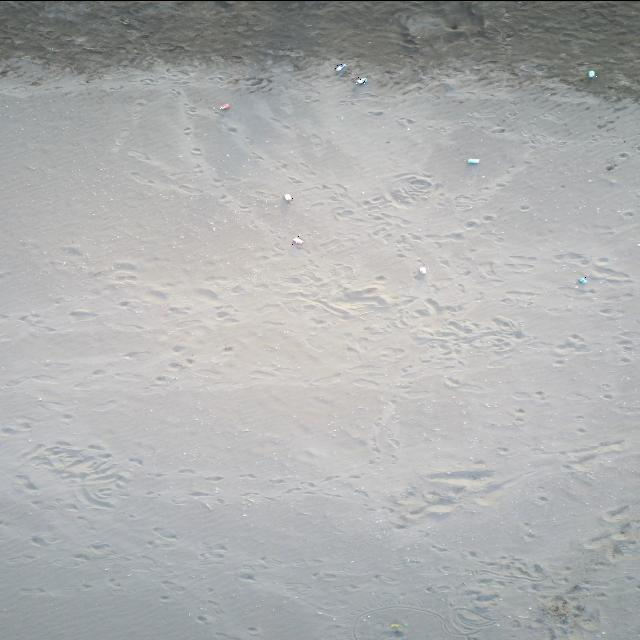Garbage: (388, 623, 403, 633), (292, 235, 303, 246), (417, 264, 426, 275), (335, 63, 346, 71), (219, 103, 230, 110), (356, 76, 367, 83), (587, 68, 595, 77), (283, 192, 292, 200), (577, 276, 587, 283), (467, 158, 479, 163)
